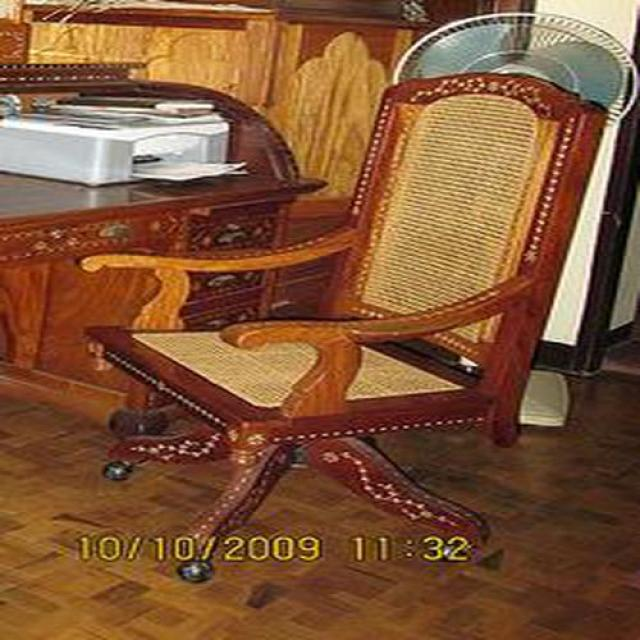swivelchair: (78, 17, 634, 584)
